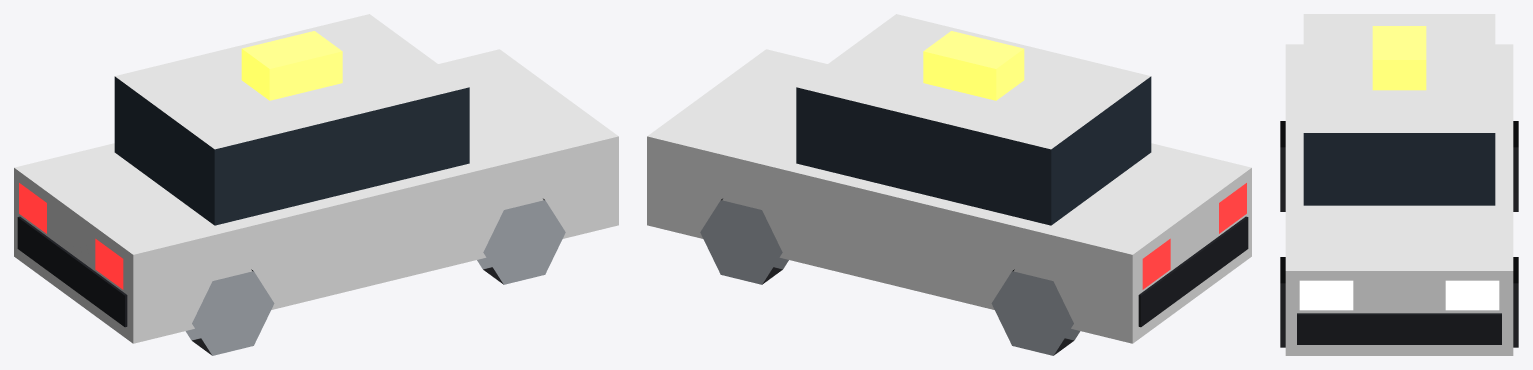
Rendered from car_taxi.glb.
The picture shows the model from 3 angles, left to right: view 1: azimuth 30°, elevation 25°; view 2: azimuth 150°, elevation 25°; view 3: azimuth 270°, elevation 25°; orthographic projection. The views are drawn at different scales.
Parts seen in each view (by area): view 1: car_taxi; view 2: car_taxi; view 3: car_taxi.
Boxes of the visible parts, x1,y1,x2,y2 form: car_taxi: (14, 14, 618, 355); car_taxi: (647, 14, 1251, 355); car_taxi: (1280, 14, 1518, 355).
Bounding box in the file's own units: 0.404 × 0.1776 × 0.178.
